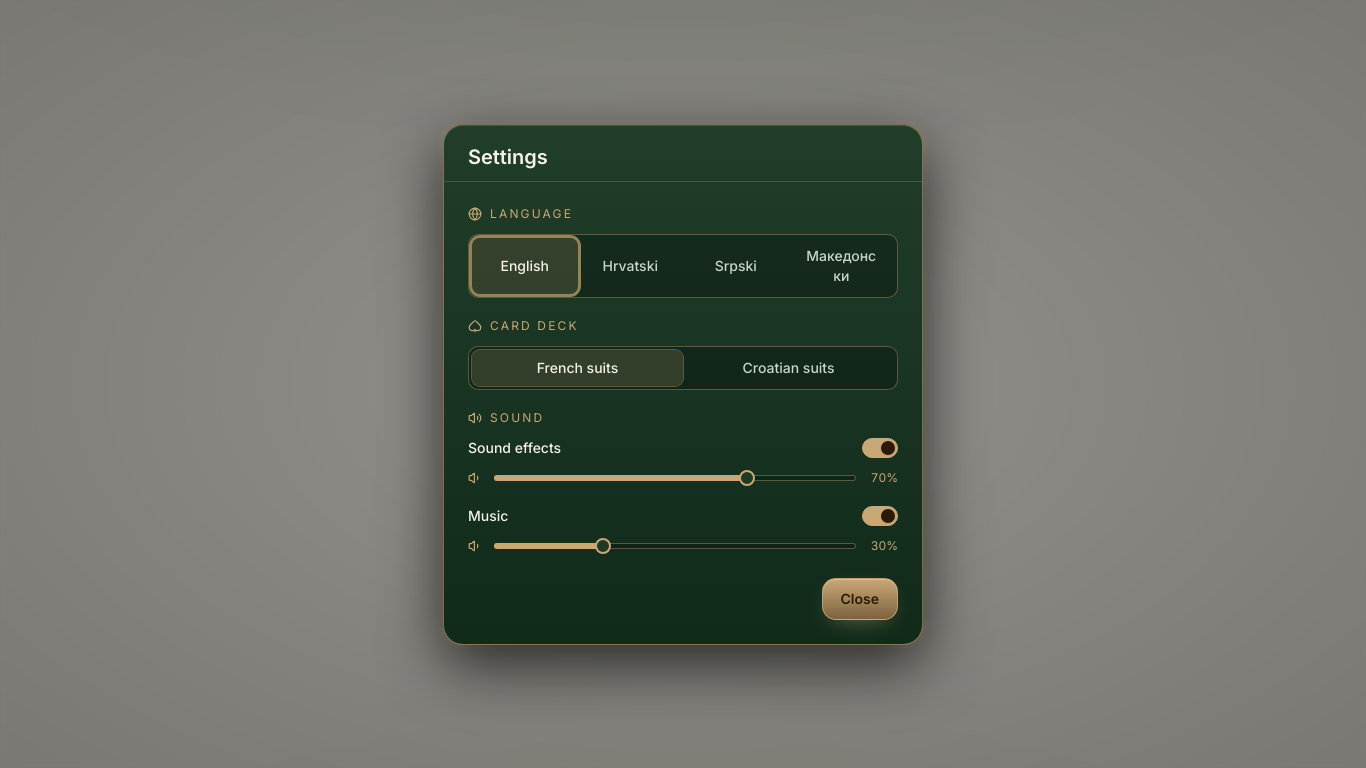
SettingsDialog volume sliders › persists a committed level as ONE PATCH of that field only
Step 1. Set the slider named "Music volume" to "55" → (602, 546), box [596,540,608,552]
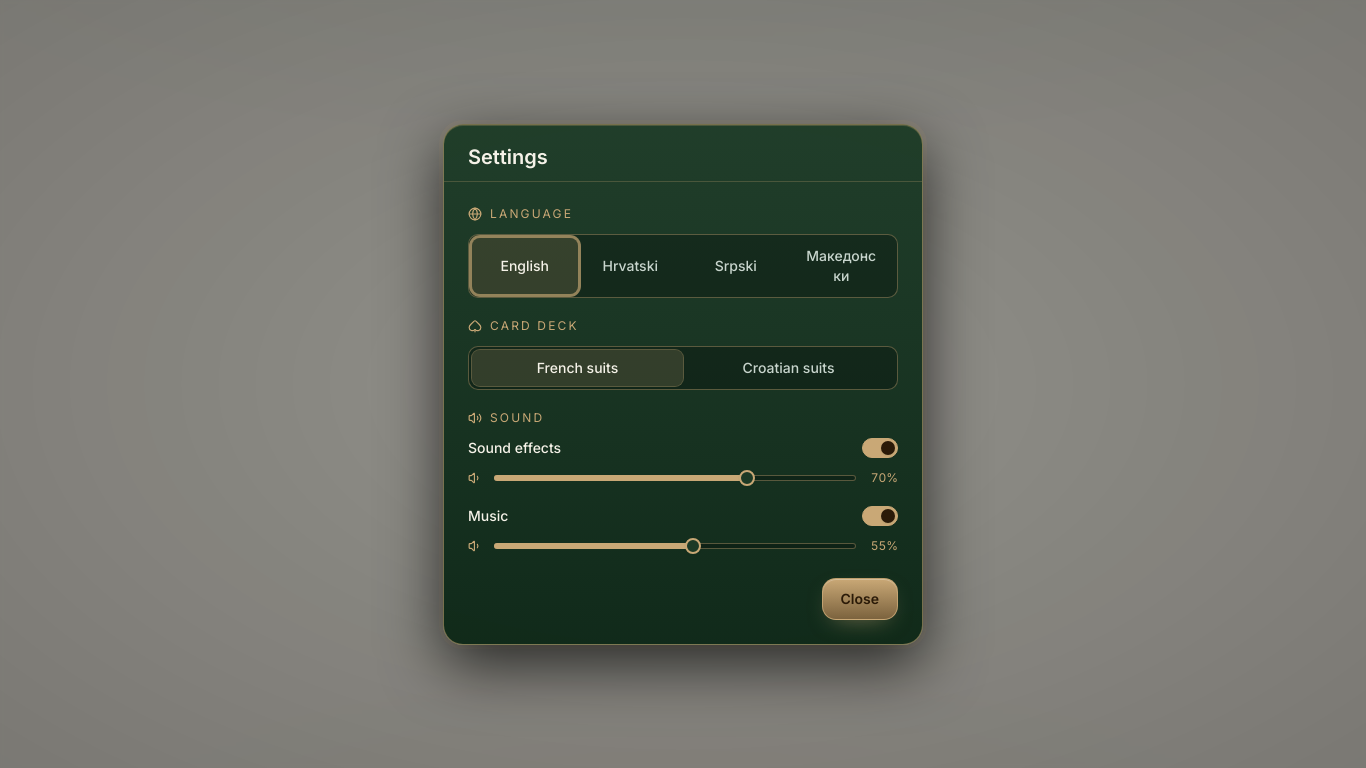
Expected: the element with test id "settings-music-volume" reads "55%", [468,534,898,558]
